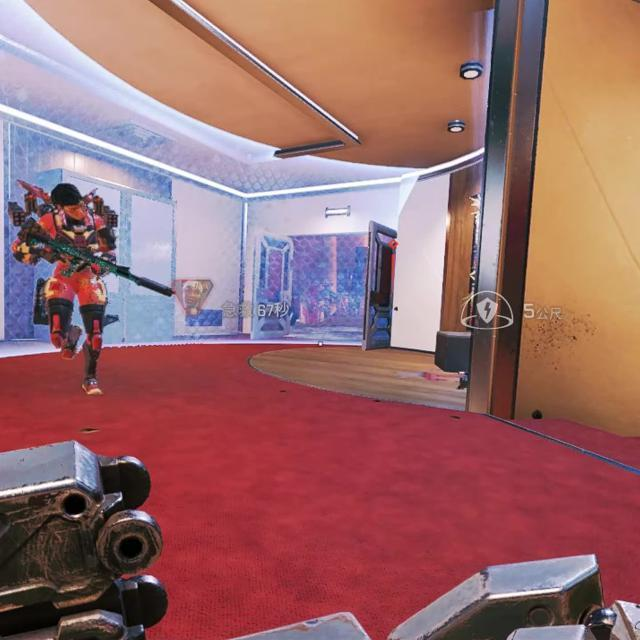avatar: (5, 181, 122, 398)
